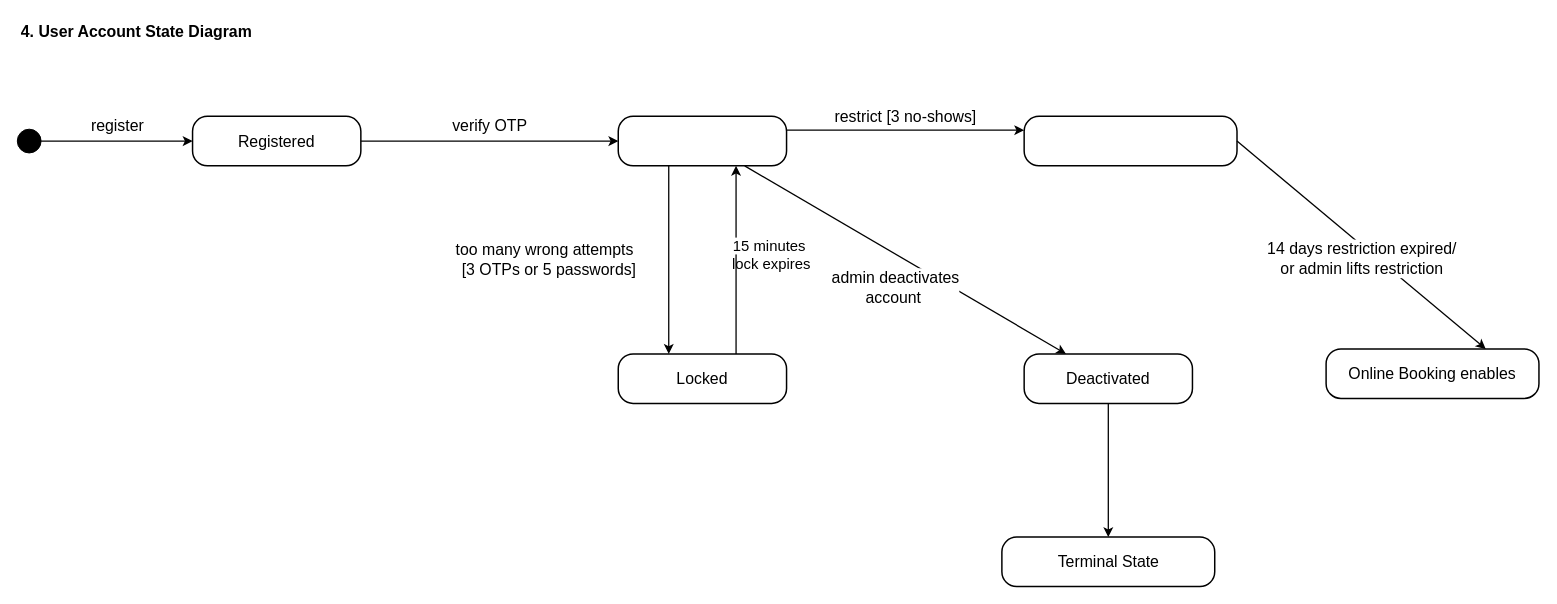
The diagram is 1557 pixels wide and 604 high, and some of its shapes have lost their labels. Here are the shapes that lost their labels. From the top down, the centre of each, then its label:
At (x=702, y=140): "Active".
At (x=1130, y=140): "Online Booking Restricted".
